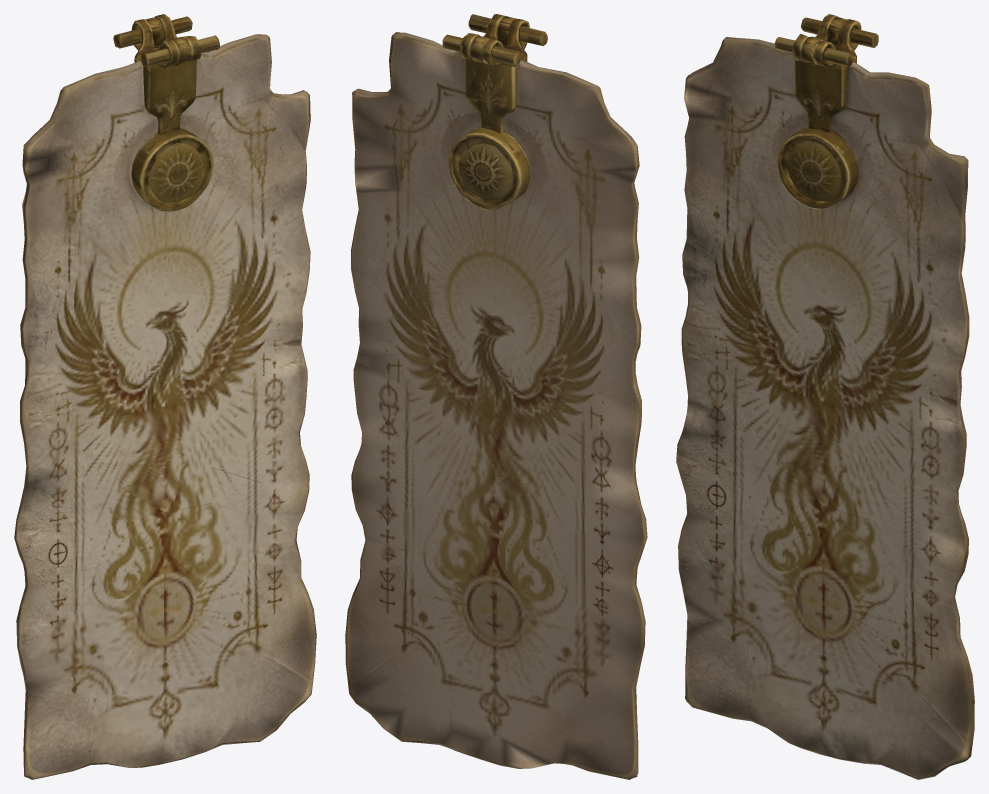
The model's file is phoenix_talisman.glb.
3 views of the same model, side by side, from view 1: azimuth 30°, elevation 25°; view 2: azimuth 150°, elevation 25°; view 3: azimuth 330°, elevation 25° (orthographic).
Visible parts, largest first — view 1: phoenix_talisman; view 2: phoenix_talisman; view 3: phoenix_talisman.
Boxes of the visible parts, x1,y1,x2,y2 form: phoenix_talisman: (14,14,316,779); phoenix_talisman: (345,14,647,779); phoenix_talisman: (676,14,974,779).
Size of the model in its own units: 0.1286 by 0.3 by 0.0294.
Materials: 1 (1 with a texture image).
